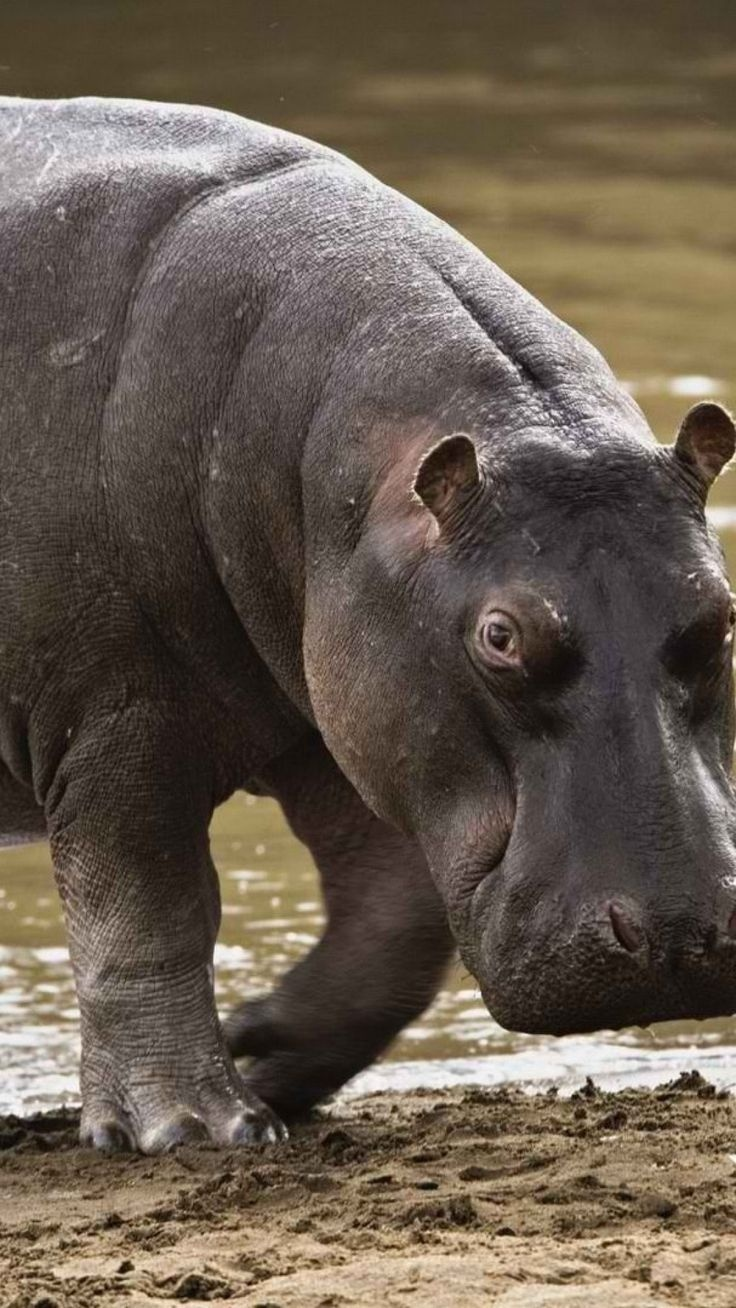hipopotamo: (1, 53, 736, 1174)
